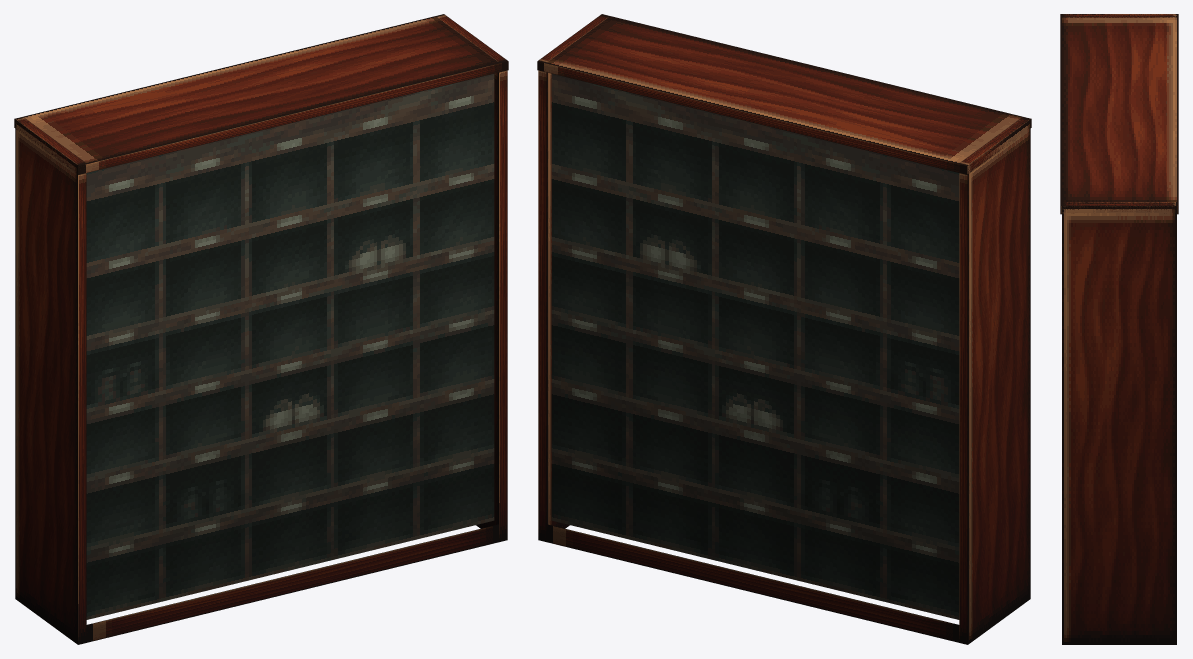
Rendered from prop_shoe_locker-1.glb.
The picture shows the model from 3 angles, left to right: view 1: azimuth 30°, elevation 25°; view 2: azimuth 150°, elevation 25°; view 3: azimuth 270°, elevation 25°; orthographic projection. The views are drawn at different scales.
Parts seen in each view (by area): view 1: prop_shoe_locker-1; view 2: prop_shoe_locker-1; view 3: prop_shoe_locker-1.
Part boxes in pixels (x1=…): prop_shoe_locker-1: x1=14, y1=14, x2=508, y2=644; prop_shoe_locker-1: x1=537, y1=14, x2=1031, y2=644; prop_shoe_locker-1: x1=1060, y1=14, x2=1178, y2=644.
Size of the model in its own units: 1.5 by 1.6 by 0.39.
Materials: 2 (2 with a texture image).
